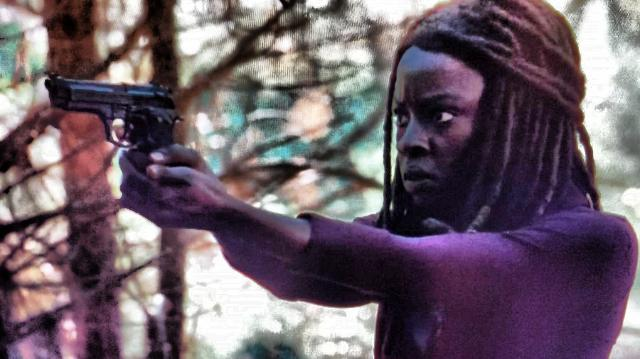pistol: (46, 65, 182, 170)
